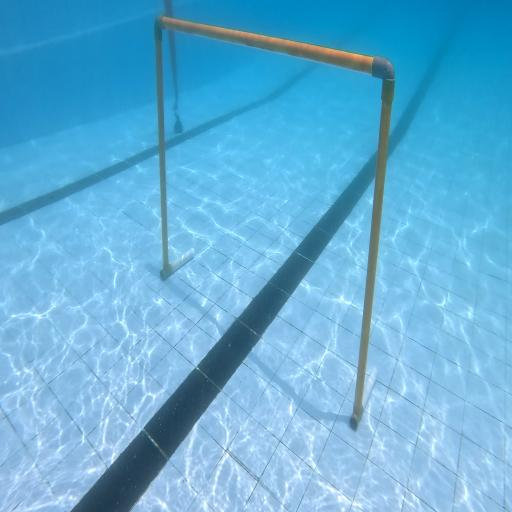gate: (155, 14, 395, 430)
